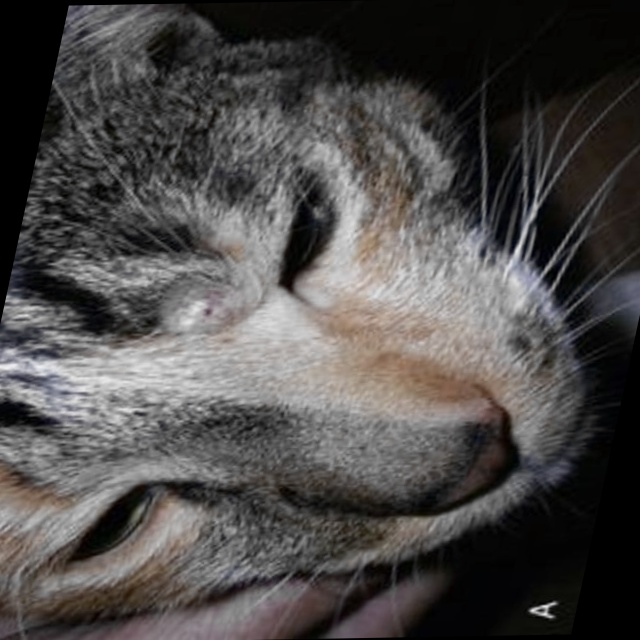lump_and_bump: (160, 278, 251, 333)
